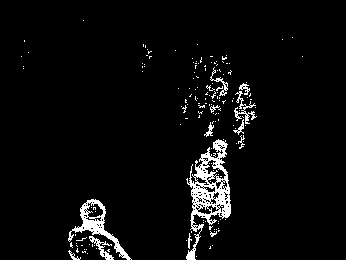person: (184, 137, 232, 260), (65, 198, 131, 260), (230, 80, 256, 151), (204, 68, 229, 138)
